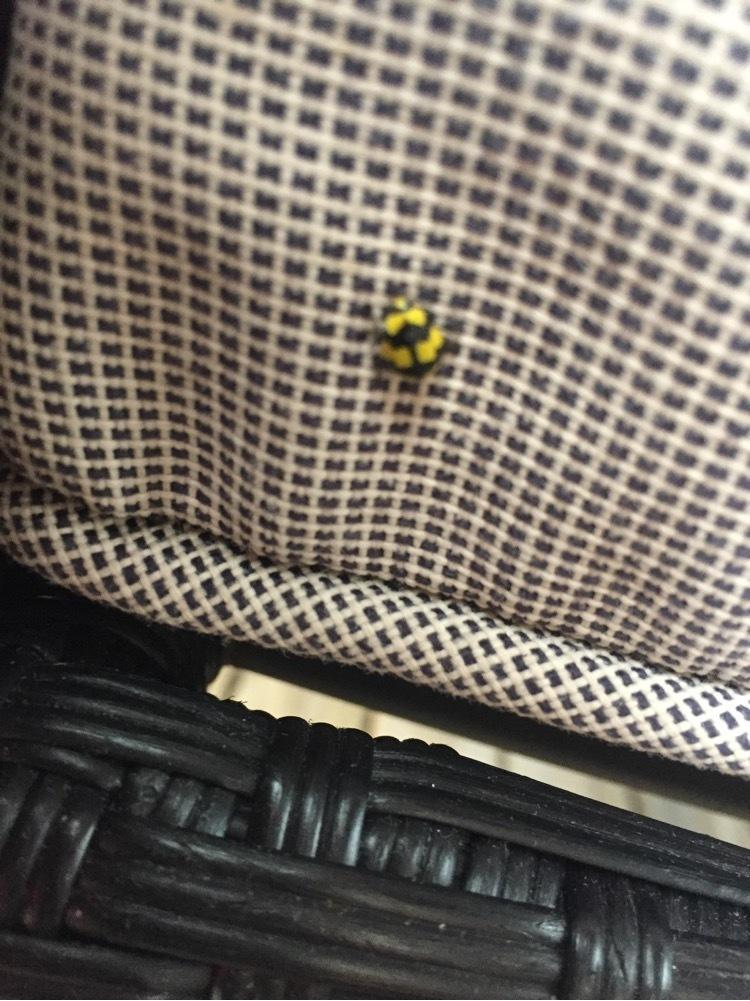ladybug: (376, 295, 449, 380)
